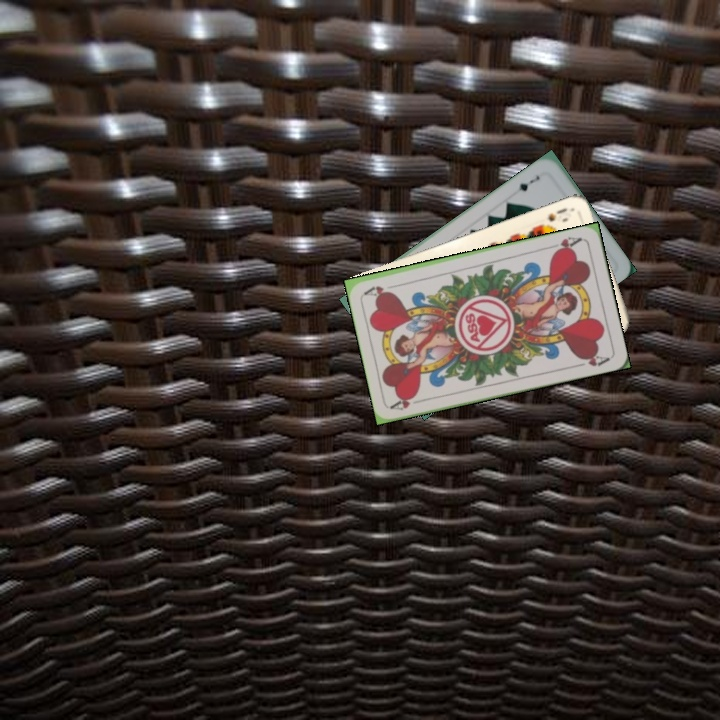G7: (514, 171, 542, 194)
HA: (545, 233, 585, 256), (388, 391, 428, 413)
S10: (544, 204, 570, 224)
